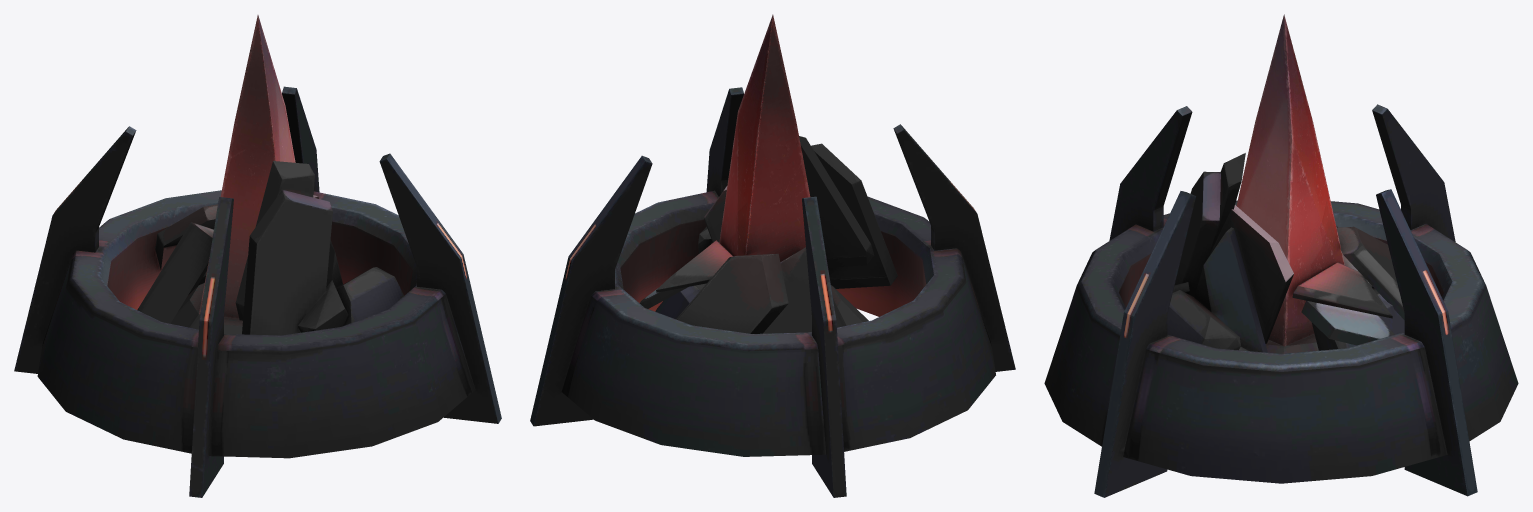
Rendered from curse.glb.
3 renders of one model, left to right at view 1: azimuth 30°, elevation 25°; view 2: azimuth 150°, elevation 25°; view 3: azimuth 270°, elevation 25°, orthographic. The views are drawn at different scales.
Visible parts, largest first — view 1: obj; view 2: obj; view 3: obj.
Boxes of the visible parts, x1,y1,x2,y2 form: obj: [14, 15, 501, 497]; obj: [530, 14, 1015, 497]; obj: [1044, 14, 1518, 497].
Size of the model in its own units: 0.8814 by 0.8251 by 0.8814.
1 material, 1 textured.
